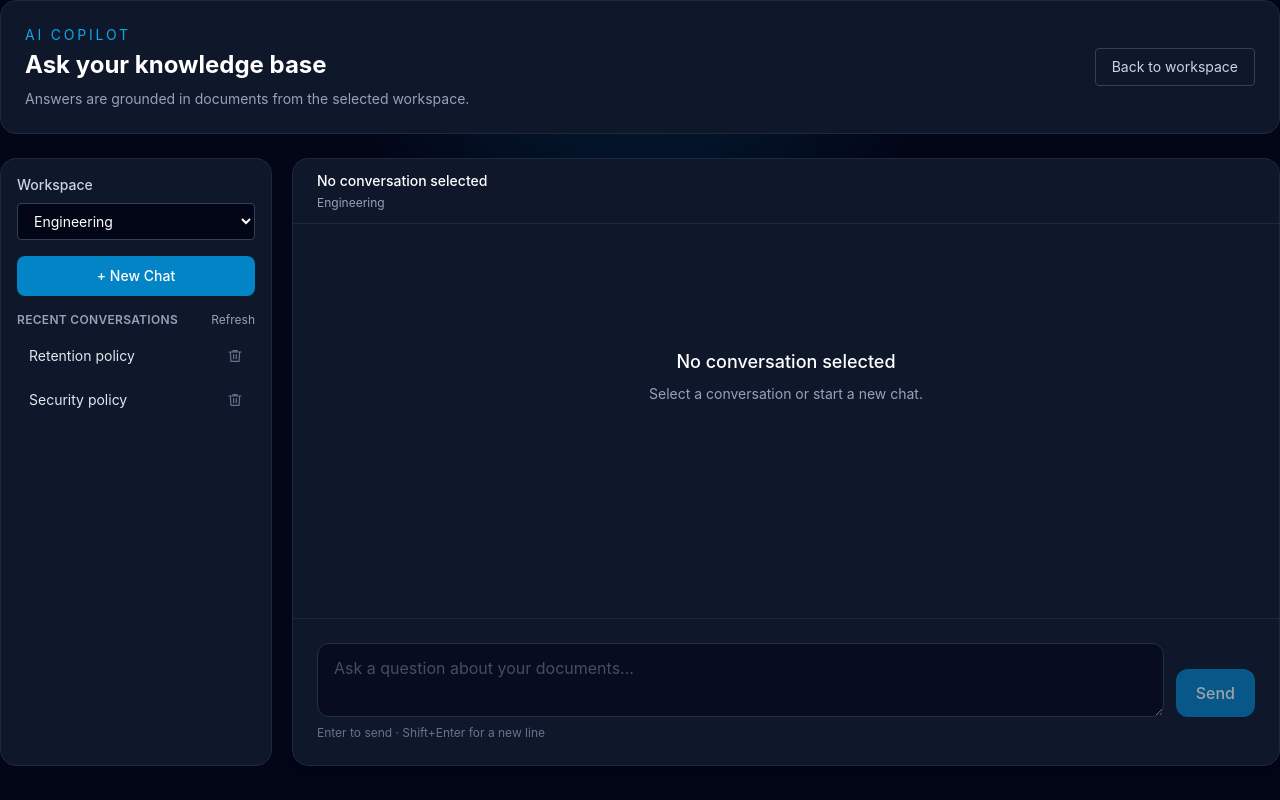
Test: ChatPage › opens the delete modal and removes the conversation after confirmation
What coordinates should you click on to do the following:
click the button named "Delete Retention policy"
I would click on:
 (235, 356)
Its box is [219,344,251,368].
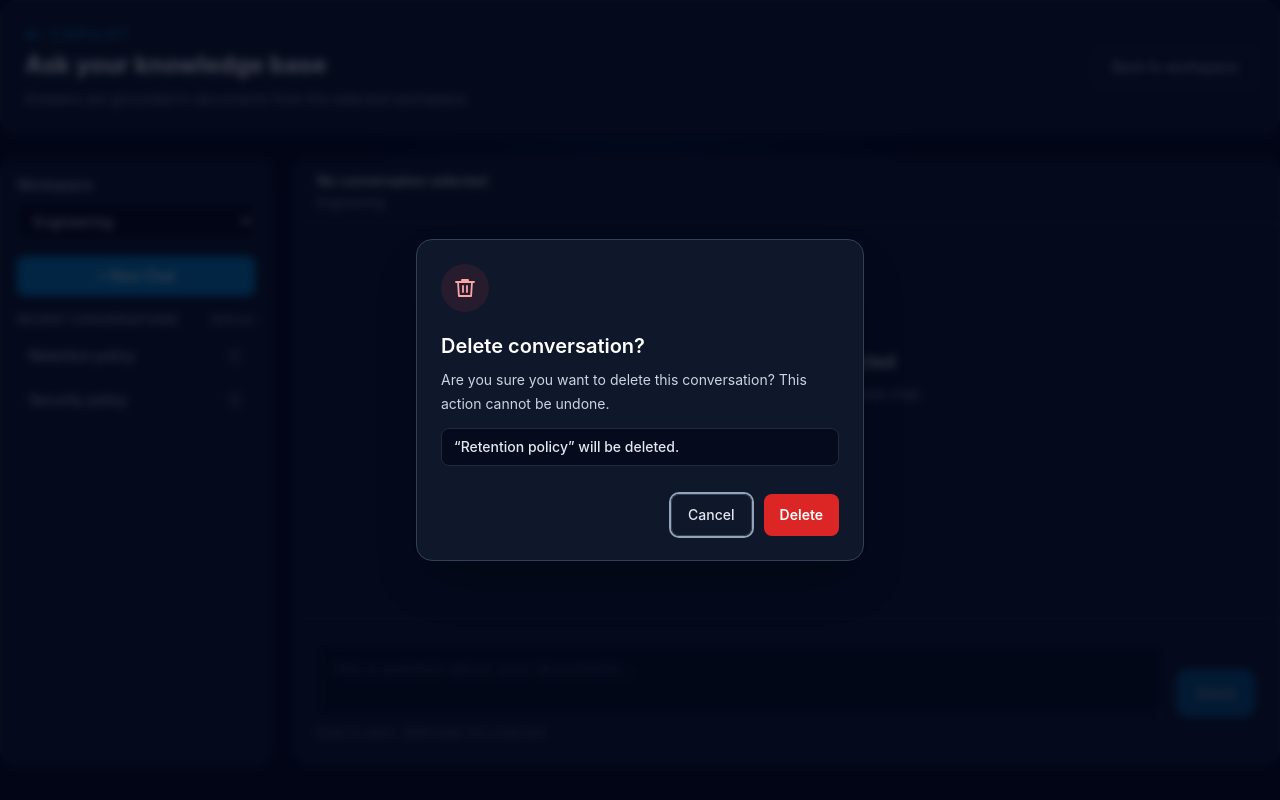
Check: the text "“Retention policy” will be deleted." is shown, box [441,428,839,466]
Check: the text "Are you sure you want to delete this conversation? This action cannot be undone." is shown, box [441,368,839,416]
What coordinates should you click on to do the following:
click the button "Delete"
I would click on:
 (801, 515)
Its box is [764,494,839,536].
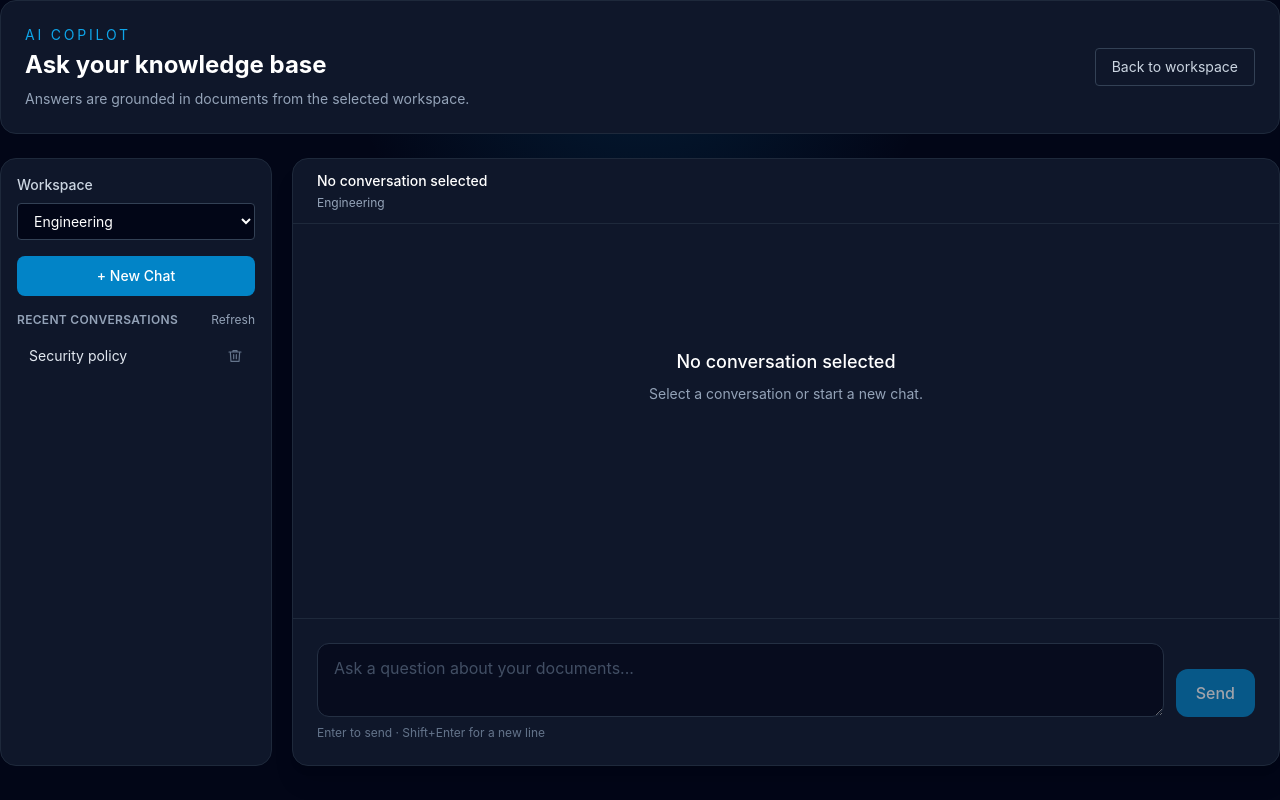
Check: the button "Security policy" is shown, box [17,336,215,376]
Check: the button "Retention policy" is gone
Check: the dialog is gone
